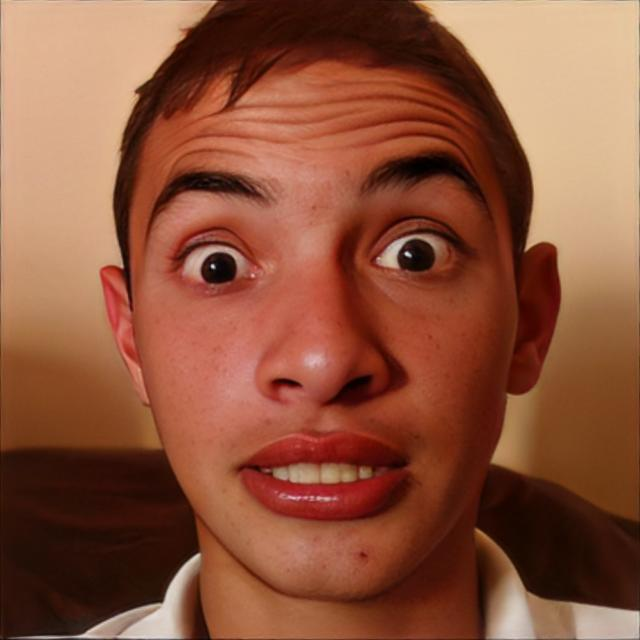fear: (124, 34, 522, 600)
